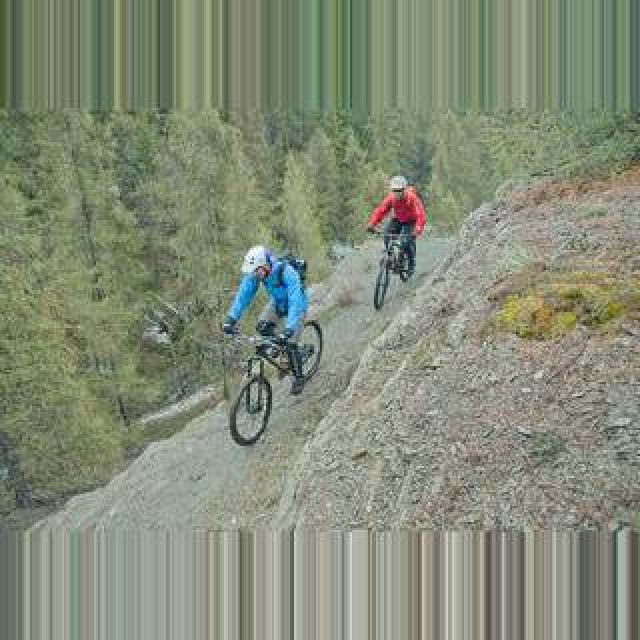MC-Bike: (222, 246, 310, 380), (366, 176, 428, 276)
Person: (224, 320, 324, 446), (371, 223, 417, 309)
